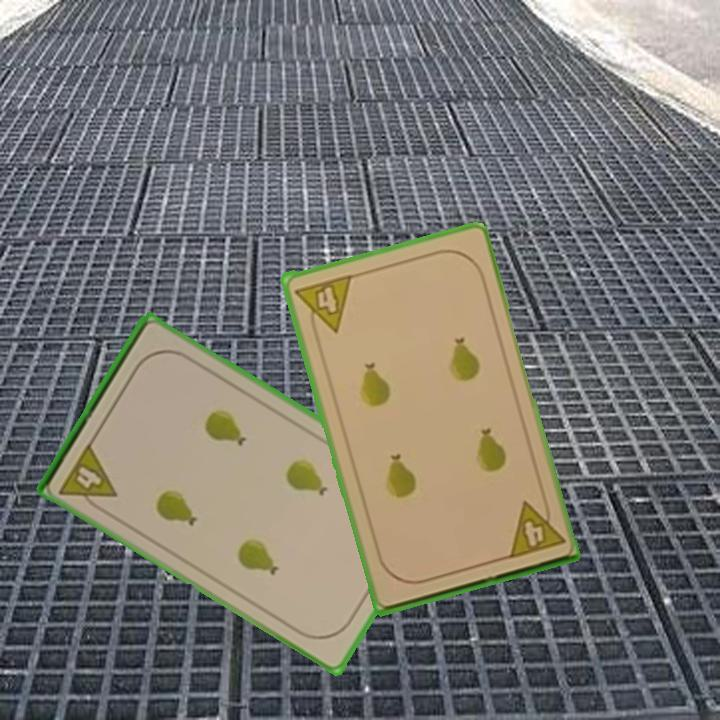4p: (55, 439, 120, 516), (291, 270, 356, 339), (504, 493, 568, 562)
